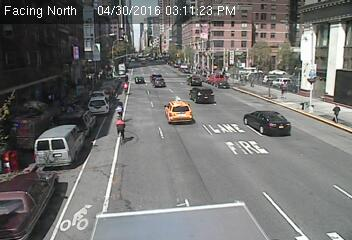neg: (108, 114, 130, 143), (112, 101, 126, 120), (120, 79, 133, 97)
pos: (327, 100, 345, 123), (279, 83, 292, 101)
